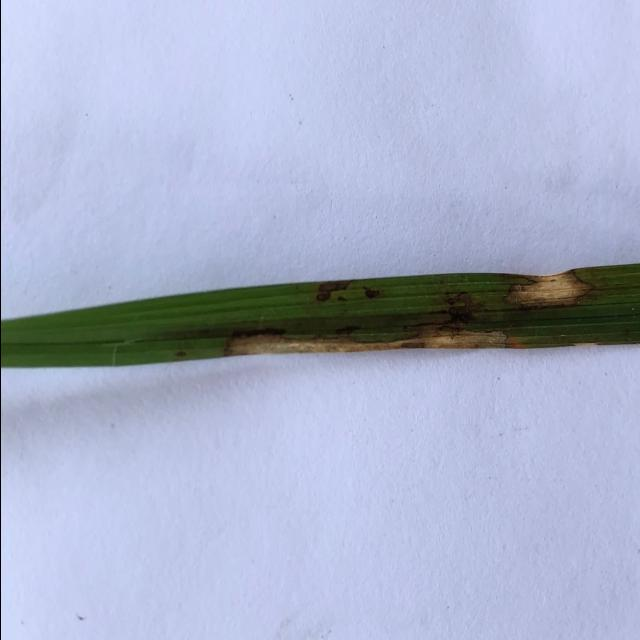Leaf Blight: (226, 298, 565, 354), (507, 269, 593, 307), (316, 282, 381, 303)
